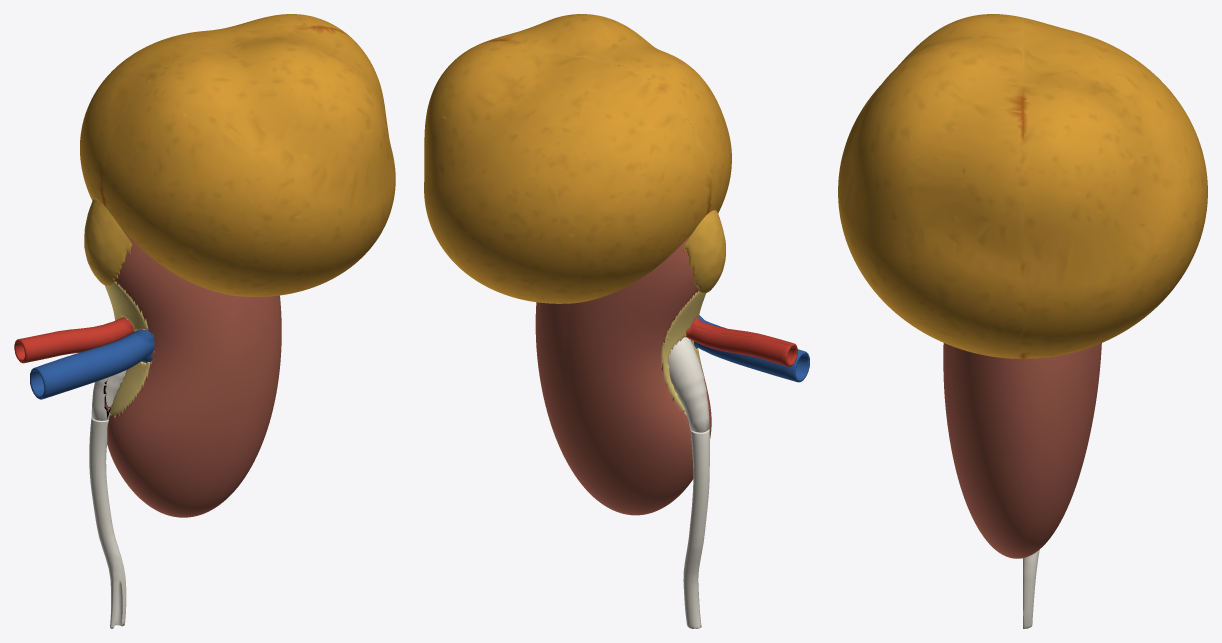
Rendered from kidney_t2a_coronal.glb.
The picture shows the model from 3 angles, left to right: view 1: azimuth 30°, elevation 25°; view 2: azimuth 150°, elevation 25°; view 3: azimuth 270°, elevation 25°; orthographic projection. The views are drawn at different scales.
Visible parts, largest first — view 1: anterior_half, tumor, ureter, renal_pelvis; view 2: tumor, renal_cortex, anterior_half, ureter, renal_pelvis, adrenal_gland, renal_artery, renal_sinus; view 3: anterior_half, tumor, renal_cortex, ureter.
Part boxes in pixels (bbox=[...]): anterior_half: bbox=[19, 27, 395, 517]; tumor: bbox=[80, 14, 352, 206]; ureter: bbox=[89, 417, 126, 628]; renal_pelvis: bbox=[91, 378, 111, 420]; tumor: bbox=[424, 40, 710, 303]; renal_cortex: bbox=[535, 236, 698, 515]; anterior_half: bbox=[481, 14, 809, 508]; ureter: bbox=[683, 429, 709, 628]; renal_pelvis: bbox=[668, 337, 709, 432]; adrenal_gland: bbox=[683, 211, 722, 293]; renal_artery: bbox=[684, 324, 791, 366]; renal_sinus: bbox=[661, 291, 702, 415]; anterior_half: bbox=[838, 14, 1022, 558]; tumor: bbox=[1023, 17, 1207, 358]; renal_cortex: bbox=[1023, 343, 1101, 557]; ureter: bbox=[1023, 550, 1039, 628].
Bounding box in the file's own units: 10.86 × 16.53 × 8.5.
1 material, 1 textured.
